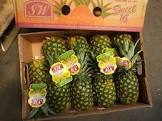Pineapple: (26, 60, 57, 118), (117, 41, 140, 105), (73, 55, 95, 112), (95, 58, 117, 109)
